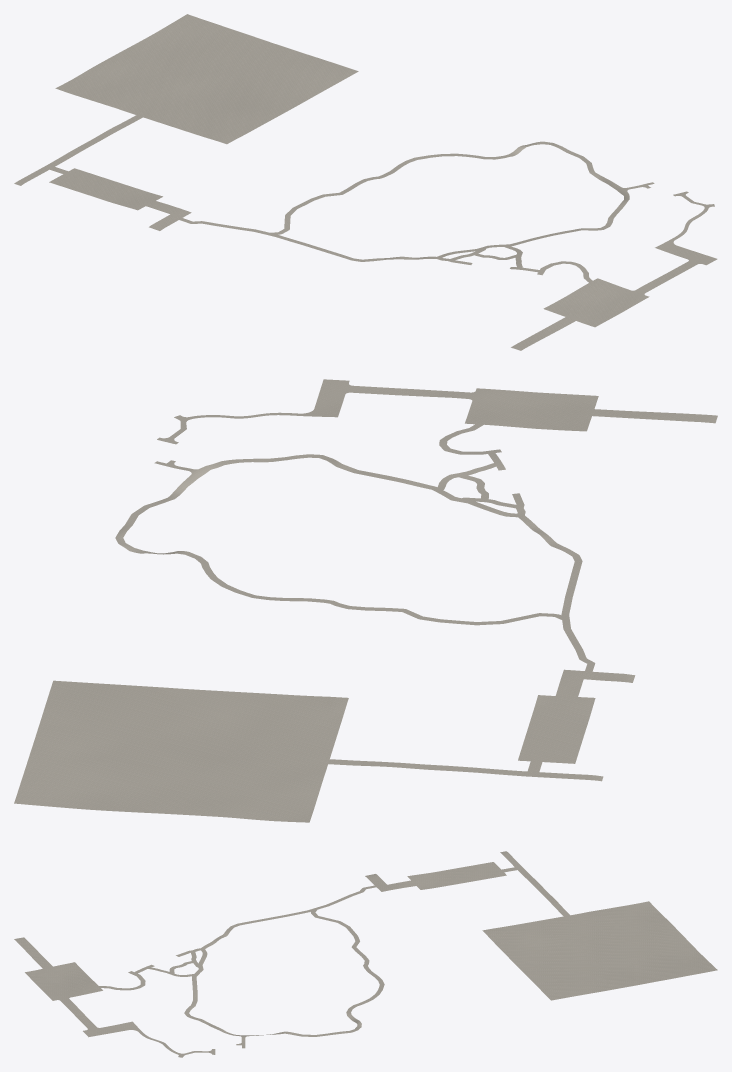
The model's file is pavement.glb.
3 views of the same model, one above another, from view 1: azimuth 30°, elevation 25°; view 2: azimuth 150°, elevation 25°; view 3: azimuth 270°, elevation 25° (orthographic). The views are drawn at different scales.
Parts seen in each view (by area): view 1: pavement.002; view 2: pavement.002; view 3: pavement.002.
Part boxes in pixels (x1,y1,x2,y2): pavement.002: (14,14,717,350); pavement.002: (14,379,717,822); pavement.002: (14,851,717,1057).
Bounding box in the file's own units: 1192 × 14.9 × 1725.
Materials: 1 (1 with a texture image).
